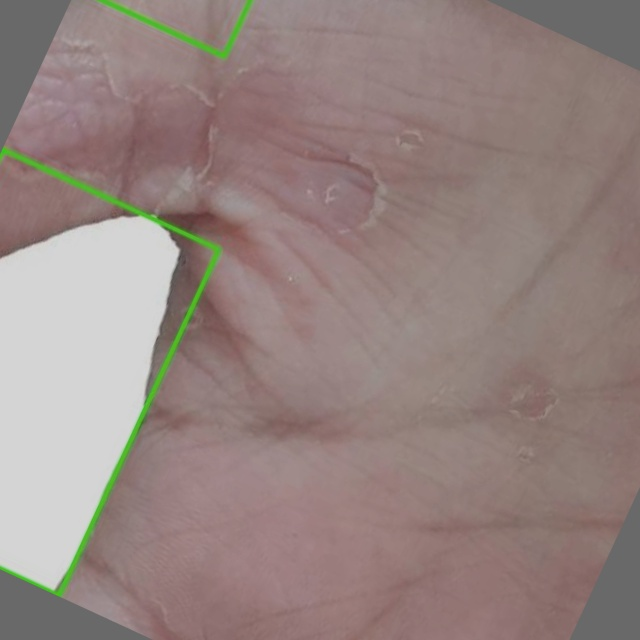Scabies: (0, 149, 219, 595)
